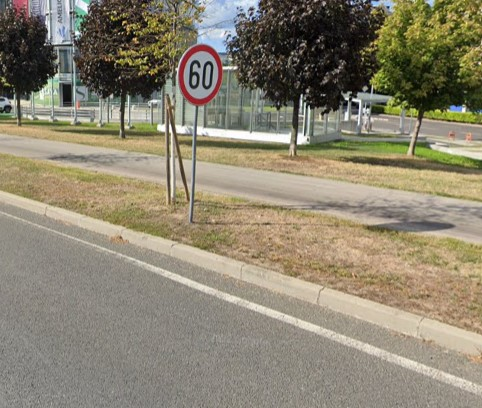Ograničenje brzine 60: (178, 44, 223, 105)
